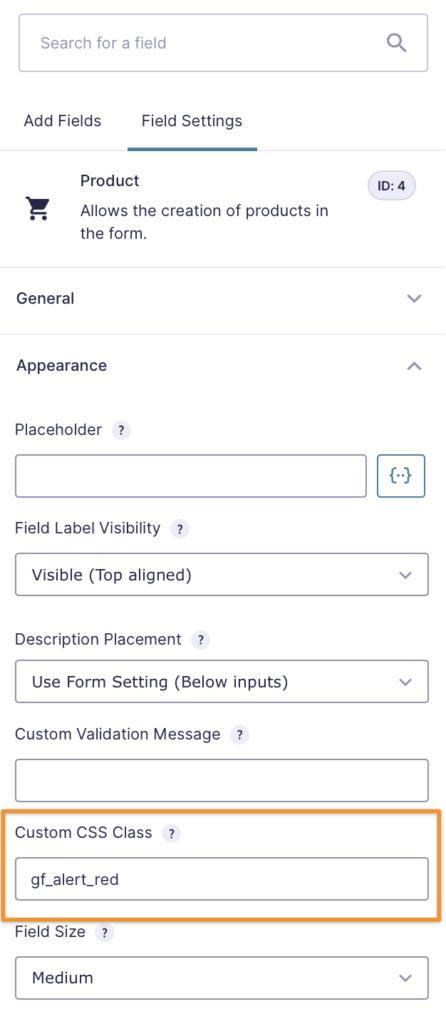button: (128, 96, 259, 152)
dropdown: (2, 269, 446, 337), (17, 552, 431, 598), (18, 662, 428, 704), (16, 959, 429, 999)
icon: (378, 455, 425, 499), (22, 189, 56, 228), (192, 622, 216, 655), (168, 518, 195, 544), (100, 923, 126, 948), (164, 821, 187, 845), (112, 417, 134, 442), (233, 724, 252, 748)
input: (19, 15, 430, 73), (17, 758, 430, 804), (17, 859, 430, 902), (15, 454, 367, 500)
label: (10, 724, 226, 750), (13, 627, 187, 651), (10, 515, 162, 542), (11, 821, 158, 848), (10, 417, 107, 444), (22, 107, 107, 136), (10, 919, 91, 946)
